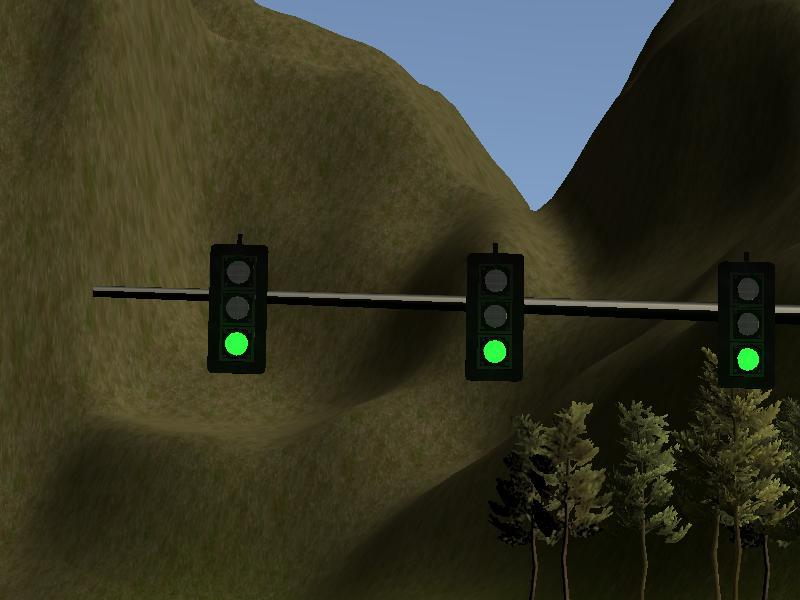Green: (467, 252, 524, 381), (213, 242, 269, 371), (716, 262, 774, 385)
